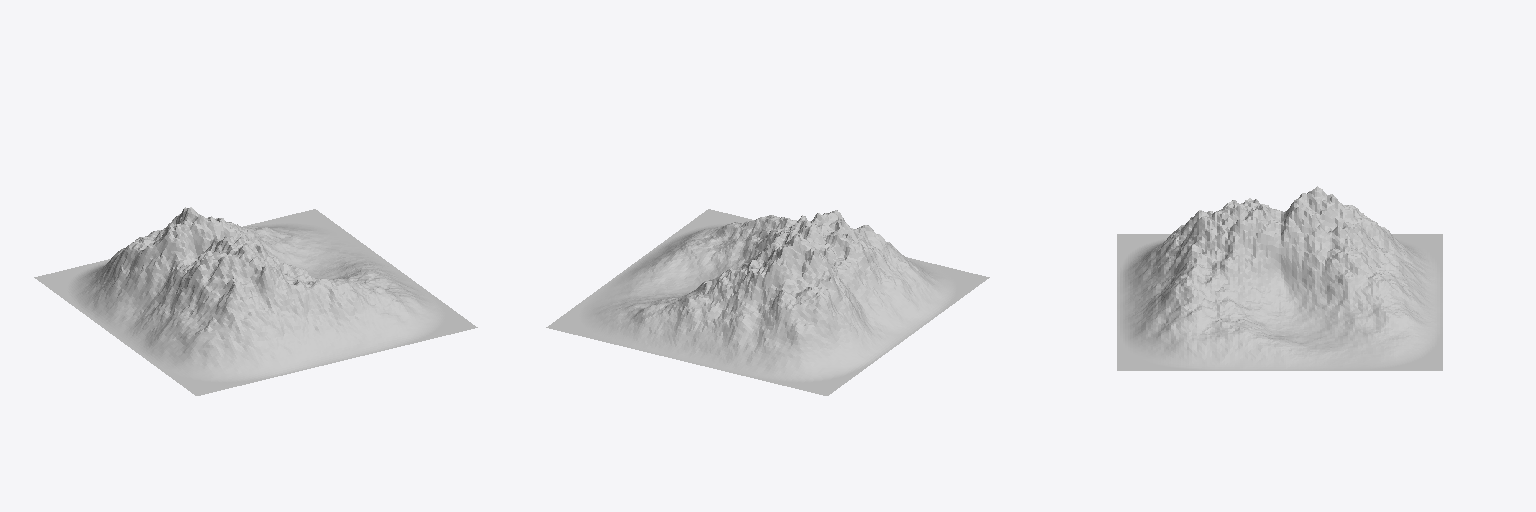
Rendered from Landscape1.obj.
3 views of the same model, side by side, from view 1: azimuth 30°, elevation 25°; view 2: azimuth 150°, elevation 25°; view 3: azimuth 270°, elevation 25° (orthographic).
Visible parts, largest first — view 1: Landscape.002; view 2: Landscape.002; view 3: Landscape.002.
Part boxes in pixels (x1,y1,x2,y2): Landscape.002: (34, 207, 477, 395); Landscape.002: (546, 209, 989, 395); Landscape.002: (1117, 186, 1442, 370).
Size of the model in its own units: 16 by 5.07 by 16.